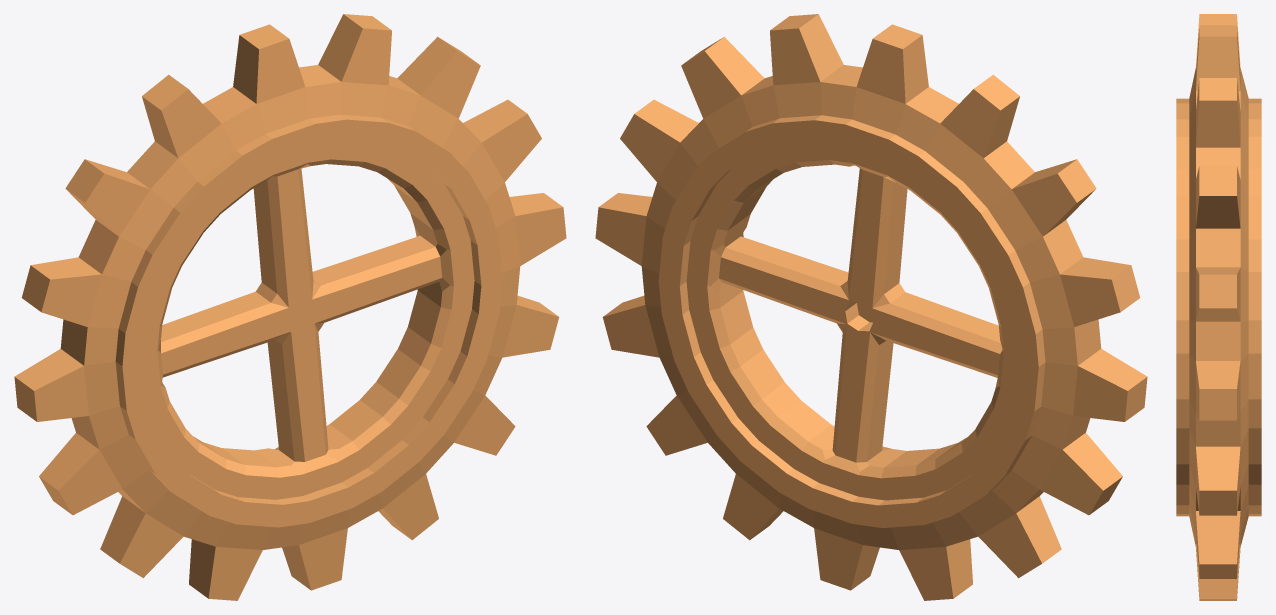
Rendered from Cog_3m_T16.fbx.
The picture shows the model from 3 angles, left to right: view 1: azimuth 30°, elevation 25°; view 2: azimuth 150°, elevation 25°; view 3: azimuth 270°, elevation 25°; orthographic projection. The views are drawn at different scales.
Visible parts, largest first — view 1: Cog_3m_T16; view 2: Cog_3m_T16; view 3: Cog_3m_T16.
Boxes of the visible parts, x1,y1,x2,y2 form: Cog_3m_T16: (14,14,566,600); Cog_3m_T16: (595,14,1147,600); Cog_3m_T16: (1176,14,1261,600).
Bounding box in the file's own units: 731 × 731 × 107.
